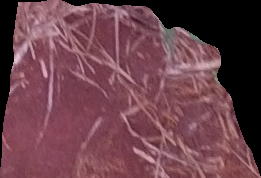soil: (1, 1, 259, 178)
